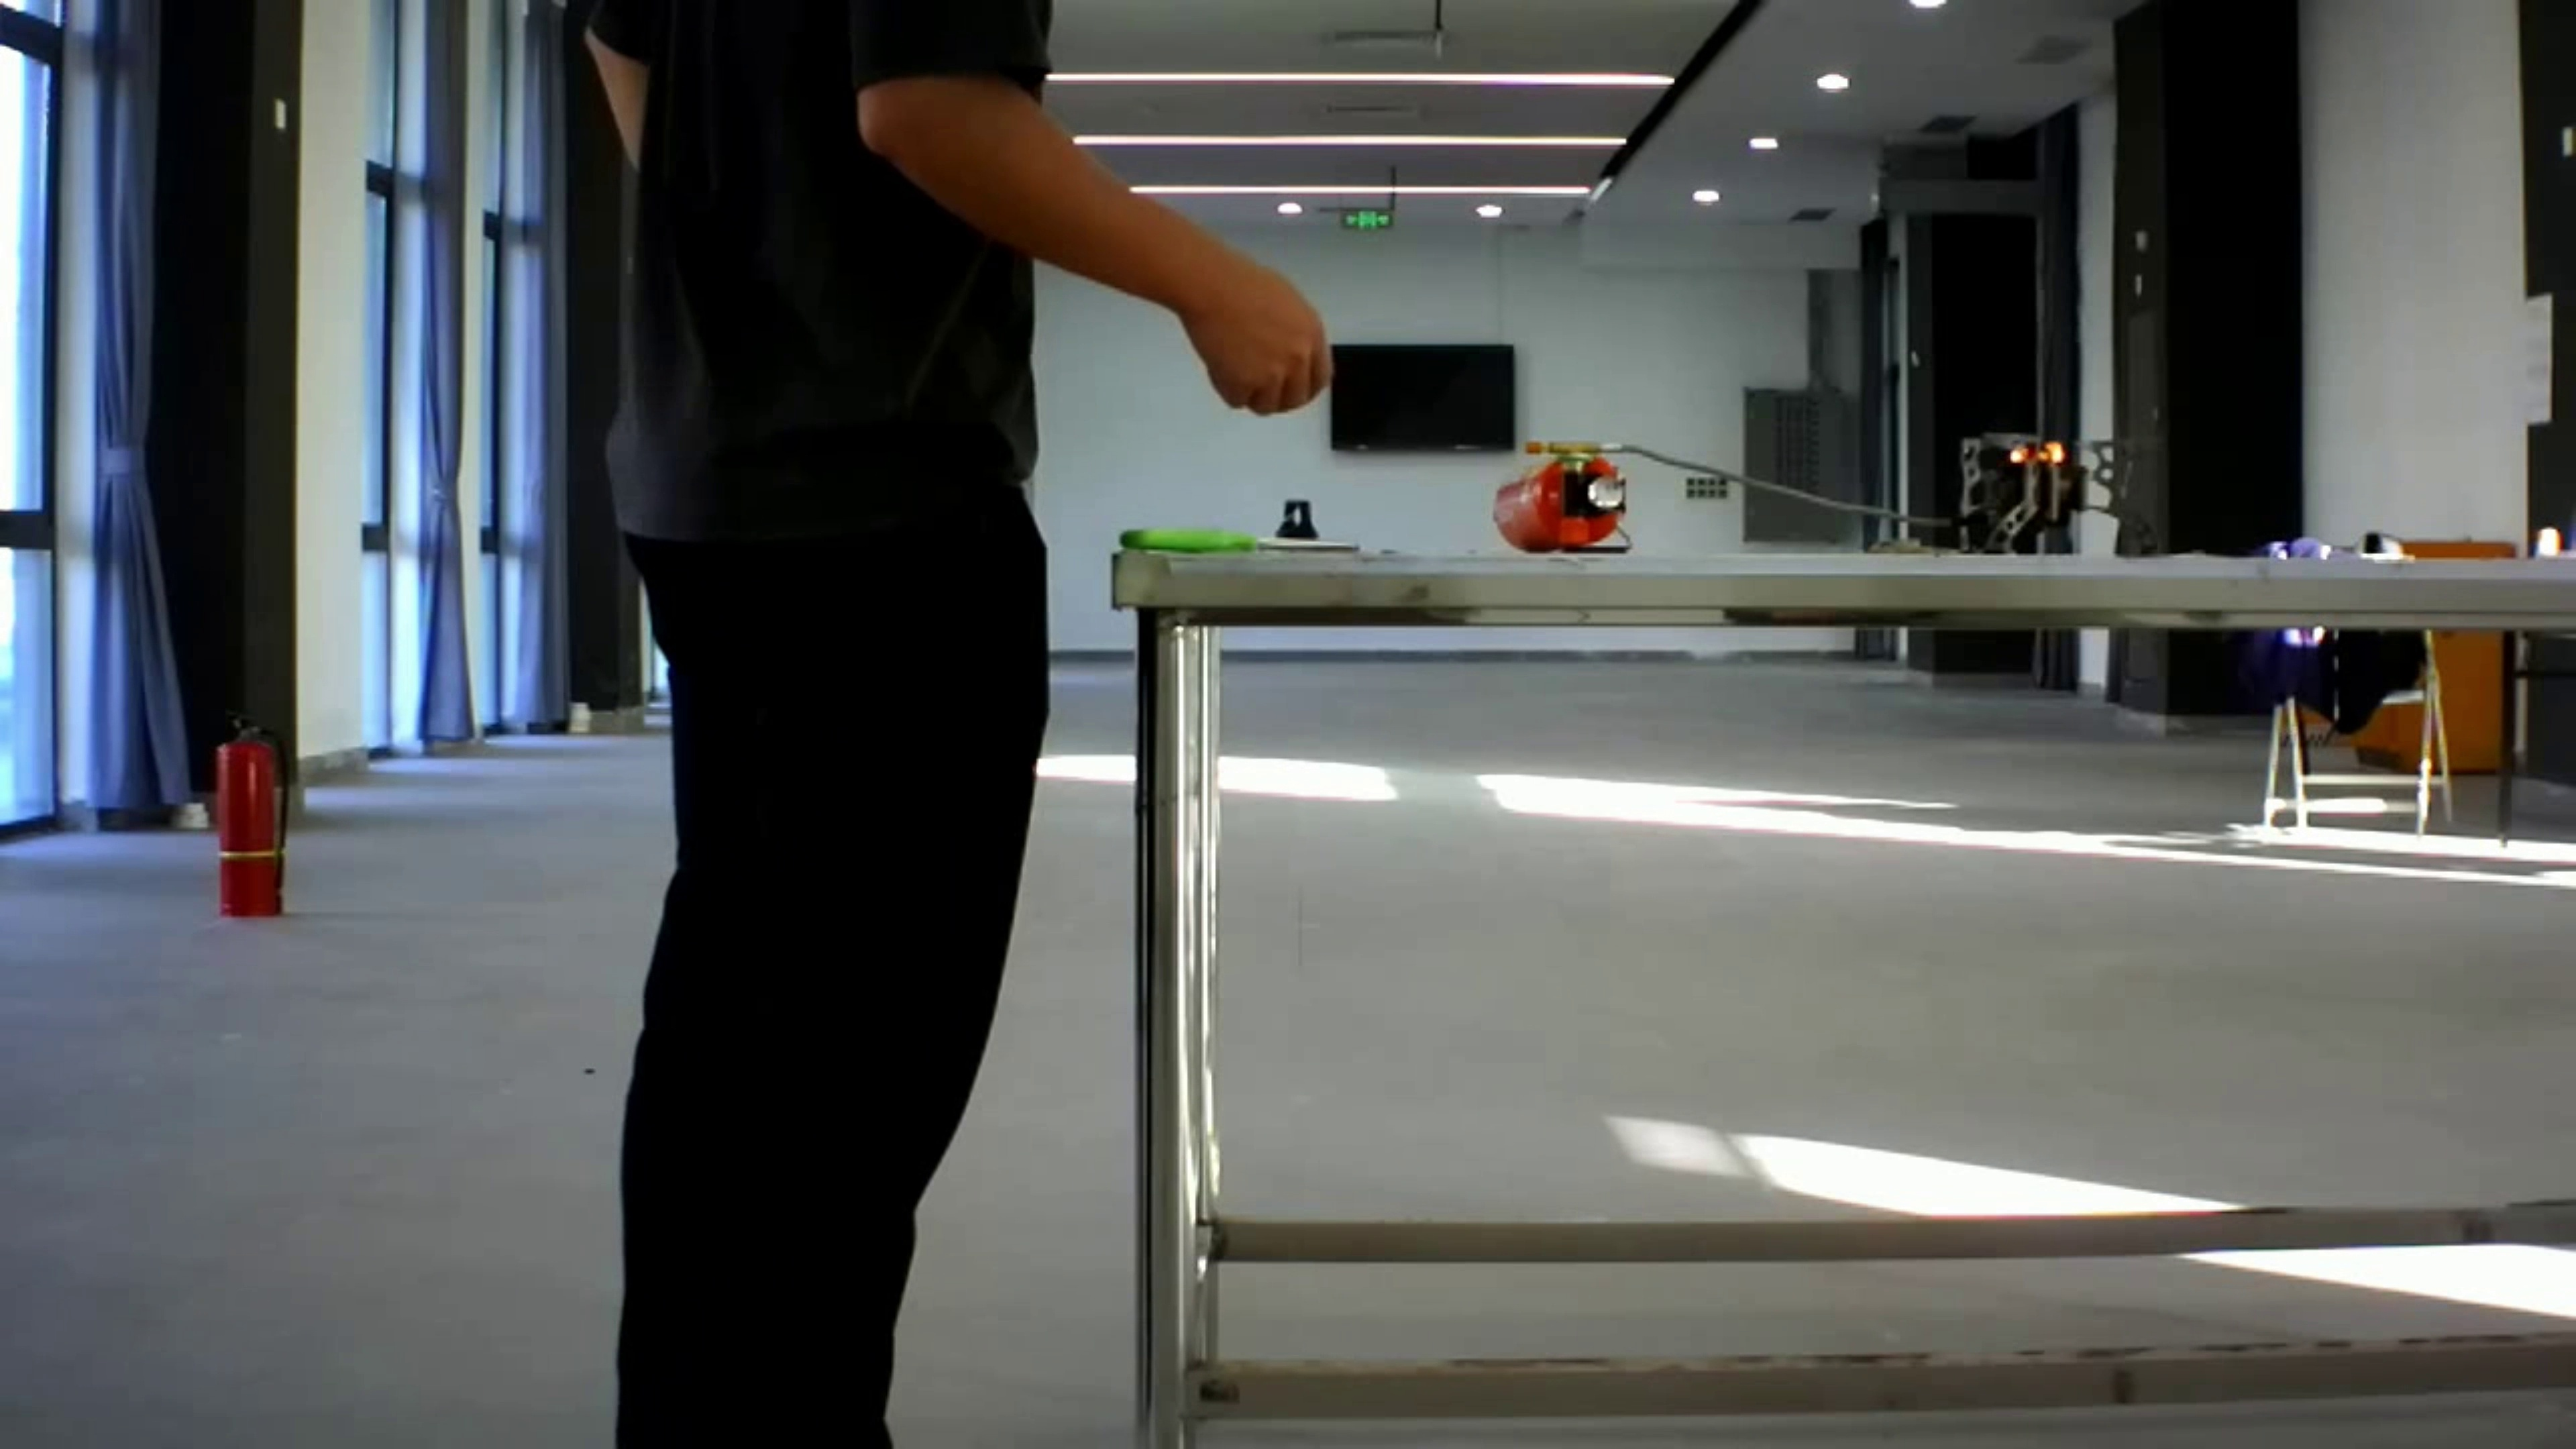Fire: (2001, 414, 2081, 483)
